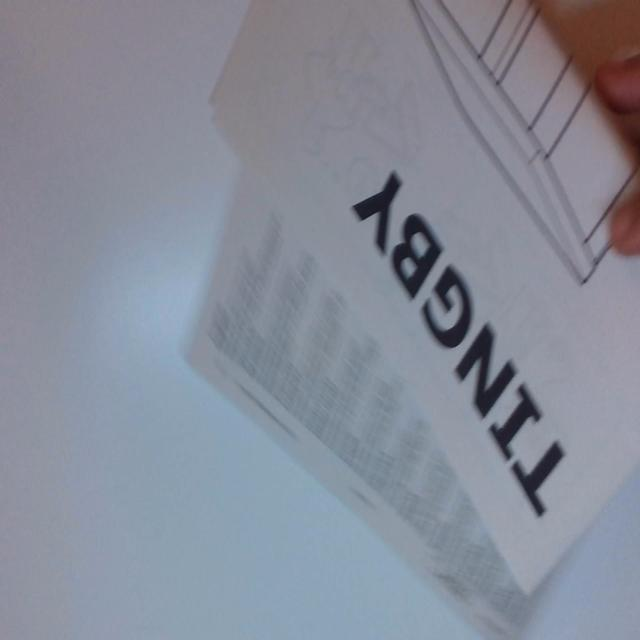Paper: (184, 2, 640, 640)
